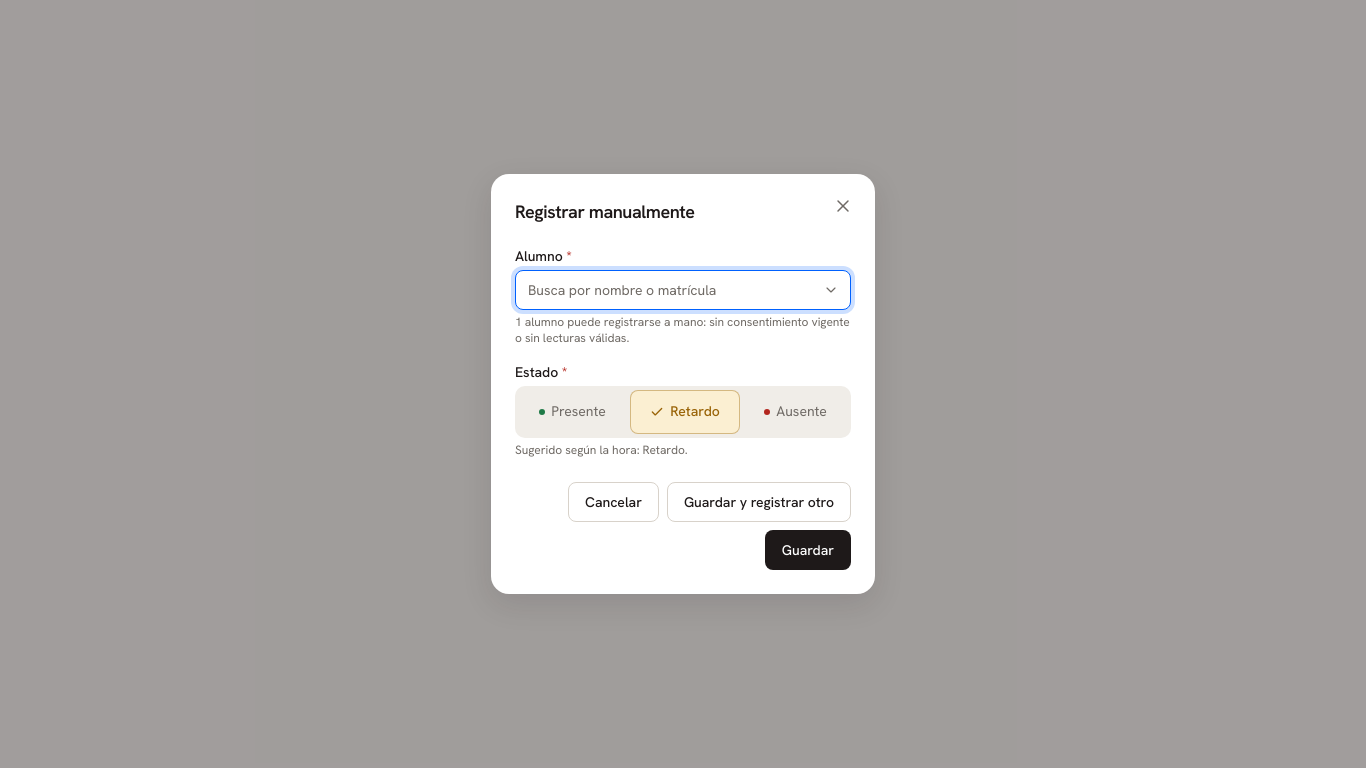
Test: RegistroManualDialog › al registrar al último deja de ofrecer el formulario y solo queda «Cerrar»
Click the dropdown labelled "Alumno *": (683, 290) [515, 270, 851, 310]
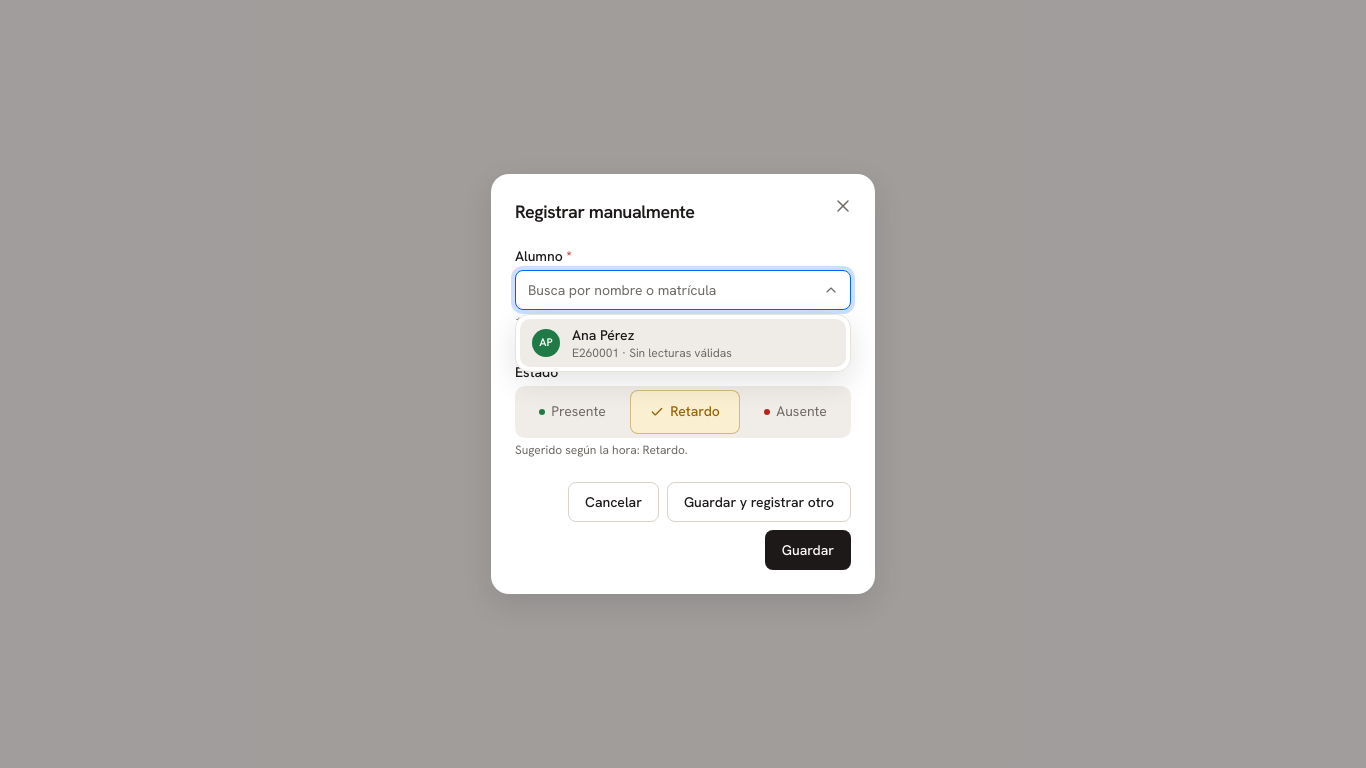
Click the option "AP Ana Pérez E260001 · Sin lecturas válidas": (683, 343) [520, 319, 846, 367]
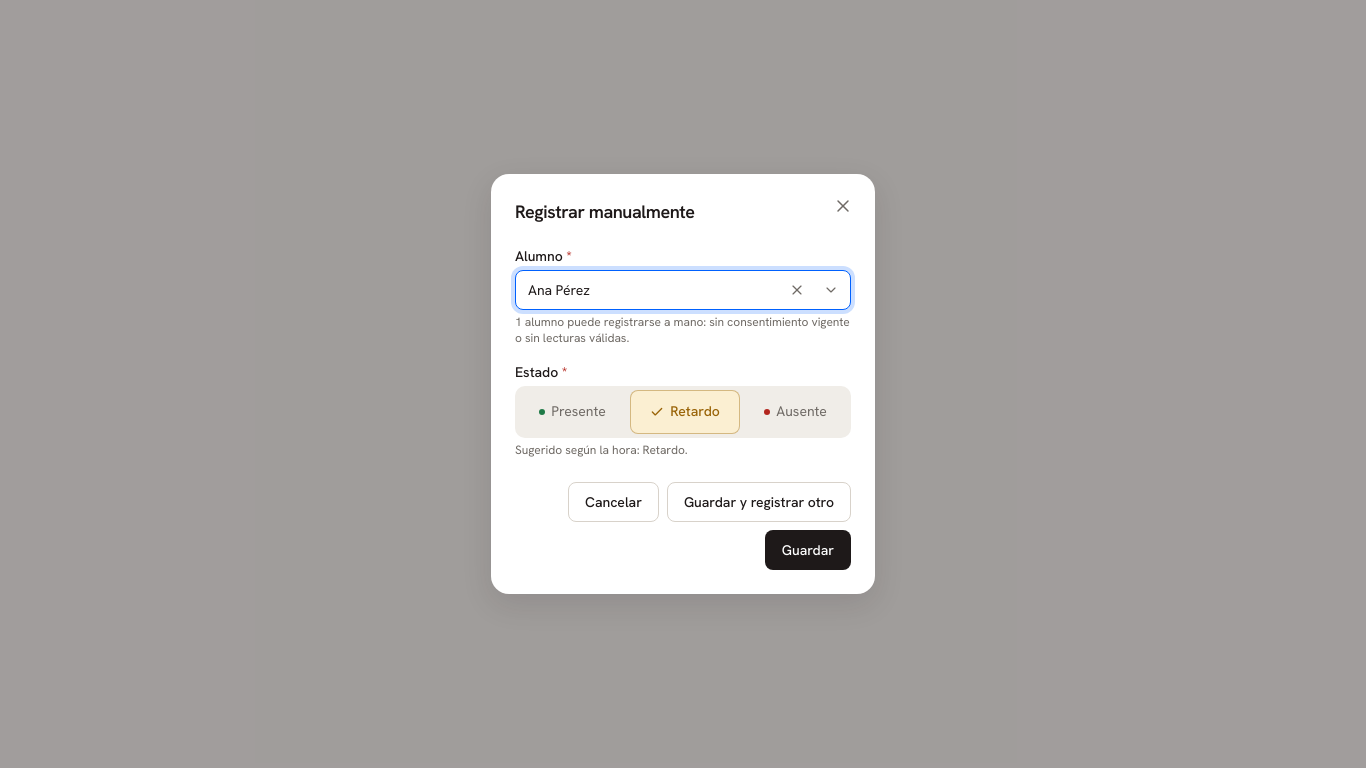
Click the button "Guardar y registrar otro": (759, 502) [667, 482, 851, 522]
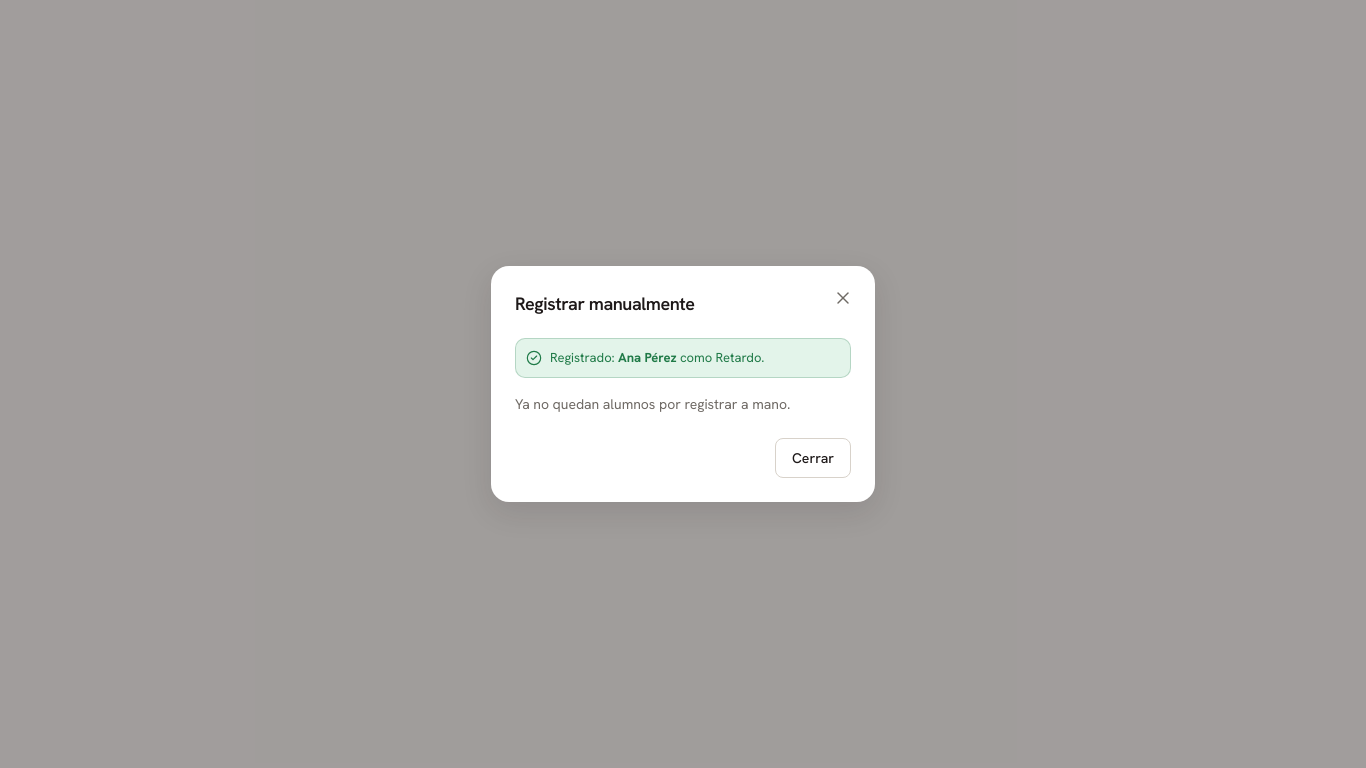
Check: the text "Ya no quedan alumnos por registrar a mano." is shown, box [515, 395, 790, 413]
Check: the button "Guardar" is gone
Check: the button "Guardar y registrar otro" is gone
